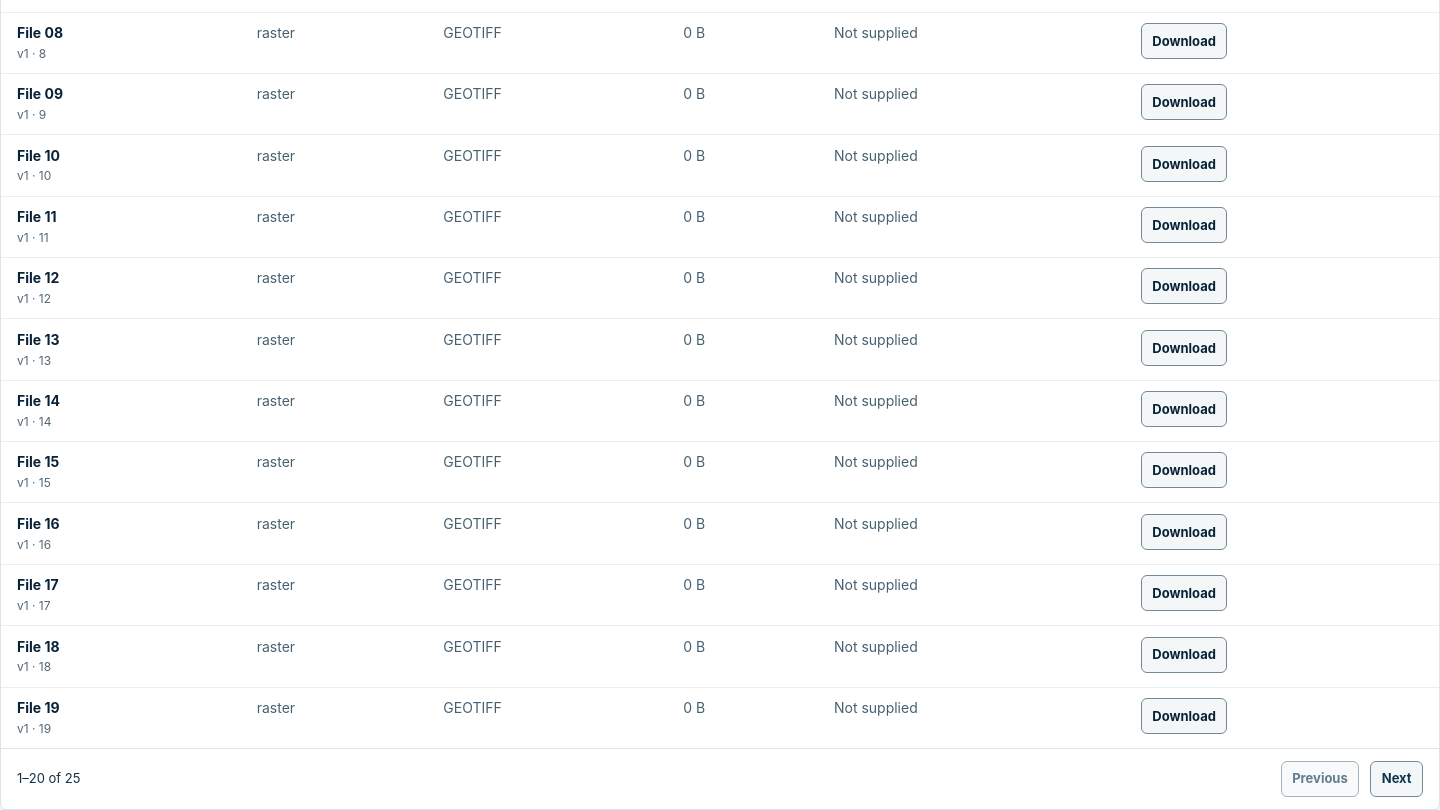
Test: Artifact register › paginates long result packages
(page scrolled)
Click the button "Next" at {"x": 1397, "y": 779}, box left=1370, top=761, right=1423, bottom=797
(page scrolled)
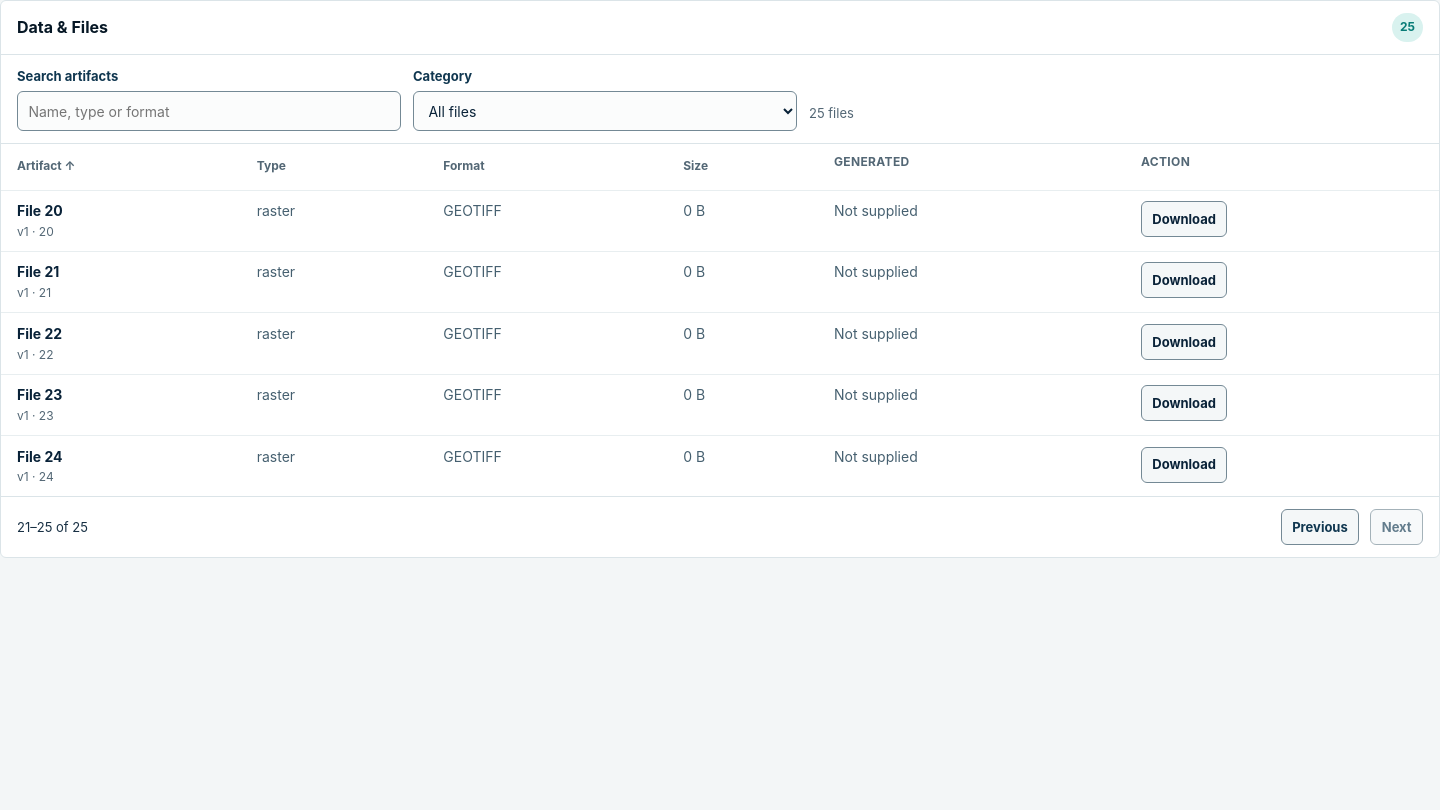
Result: the number of links is 5 at left=1141, top=201, right=1227, bottom=237; left=1141, top=262, right=1227, bottom=298; left=1141, top=324, right=1227, bottom=360; left=1141, top=385, right=1227, bottom=421; left=1141, top=446, right=1227, bottom=482
Result: the text "21–25 of 25" is shown at left=17, top=518, right=88, bottom=537
